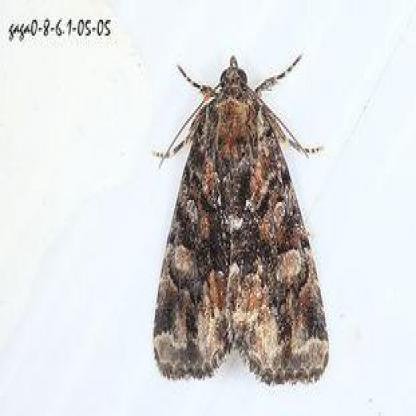armyworm: (145, 53, 334, 383)
